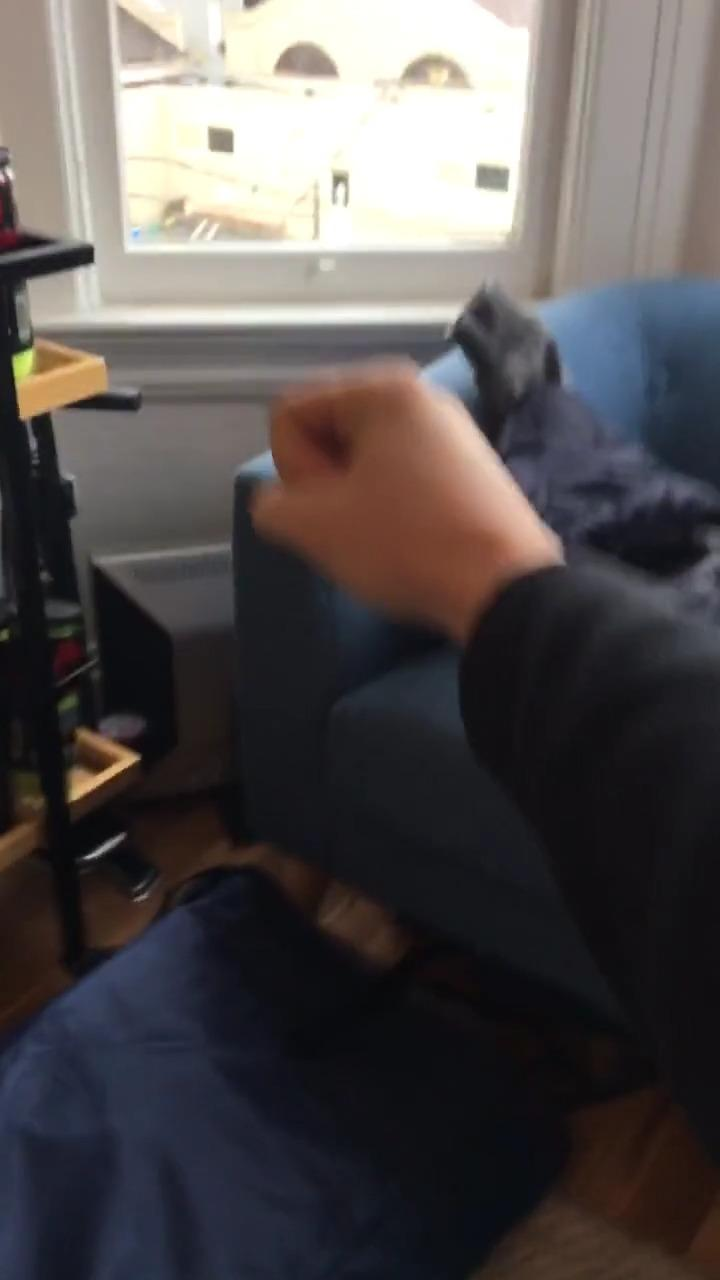Rock: (254, 364, 529, 634)
